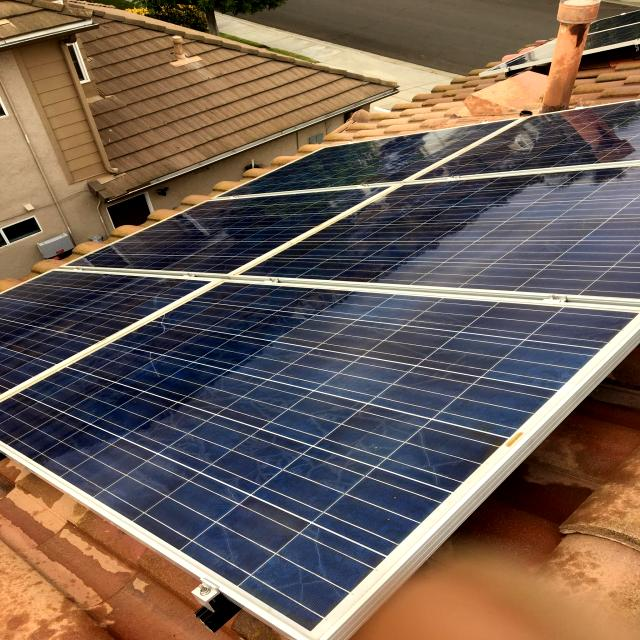crack: (184, 444, 394, 553), (290, 369, 494, 476), (234, 298, 442, 381), (142, 350, 325, 440), (1, 400, 206, 478), (410, 203, 616, 278)
